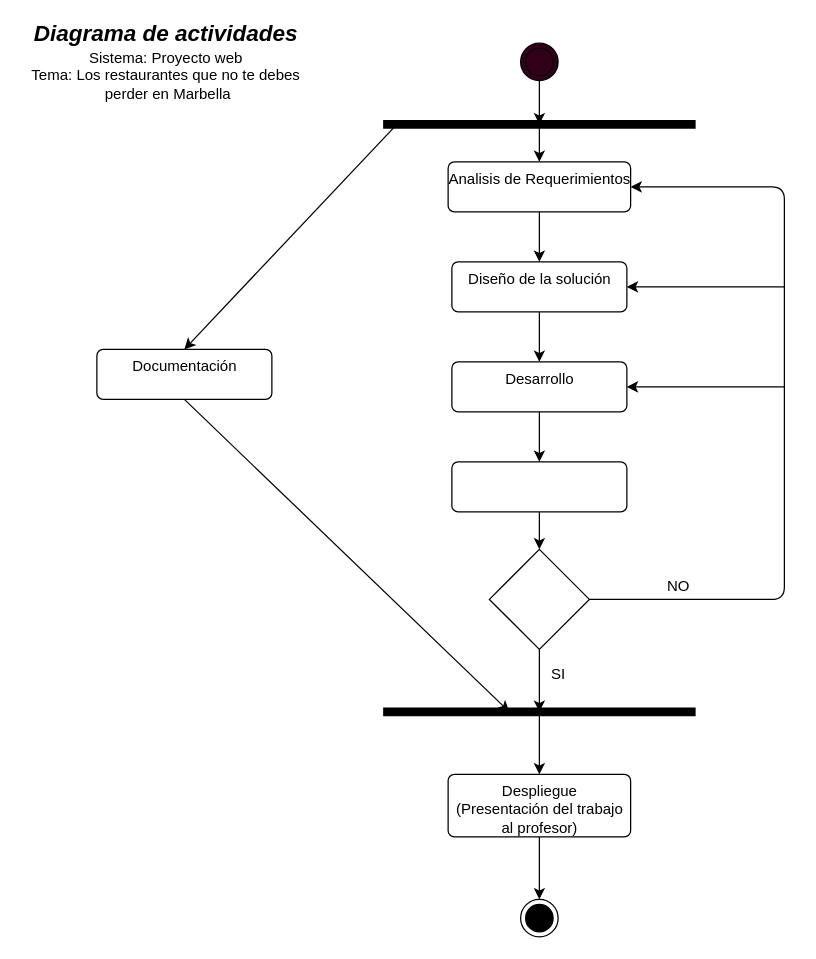
This 816x959 diagram has some shape labels left out. The shapes that lost their labels are listed below. From the top down, each one's centre as x and y in pixels, then its label:
At point (539, 486): "Prueba Funcional (caja negra)".
At point (538, 598): "¿OK?".
